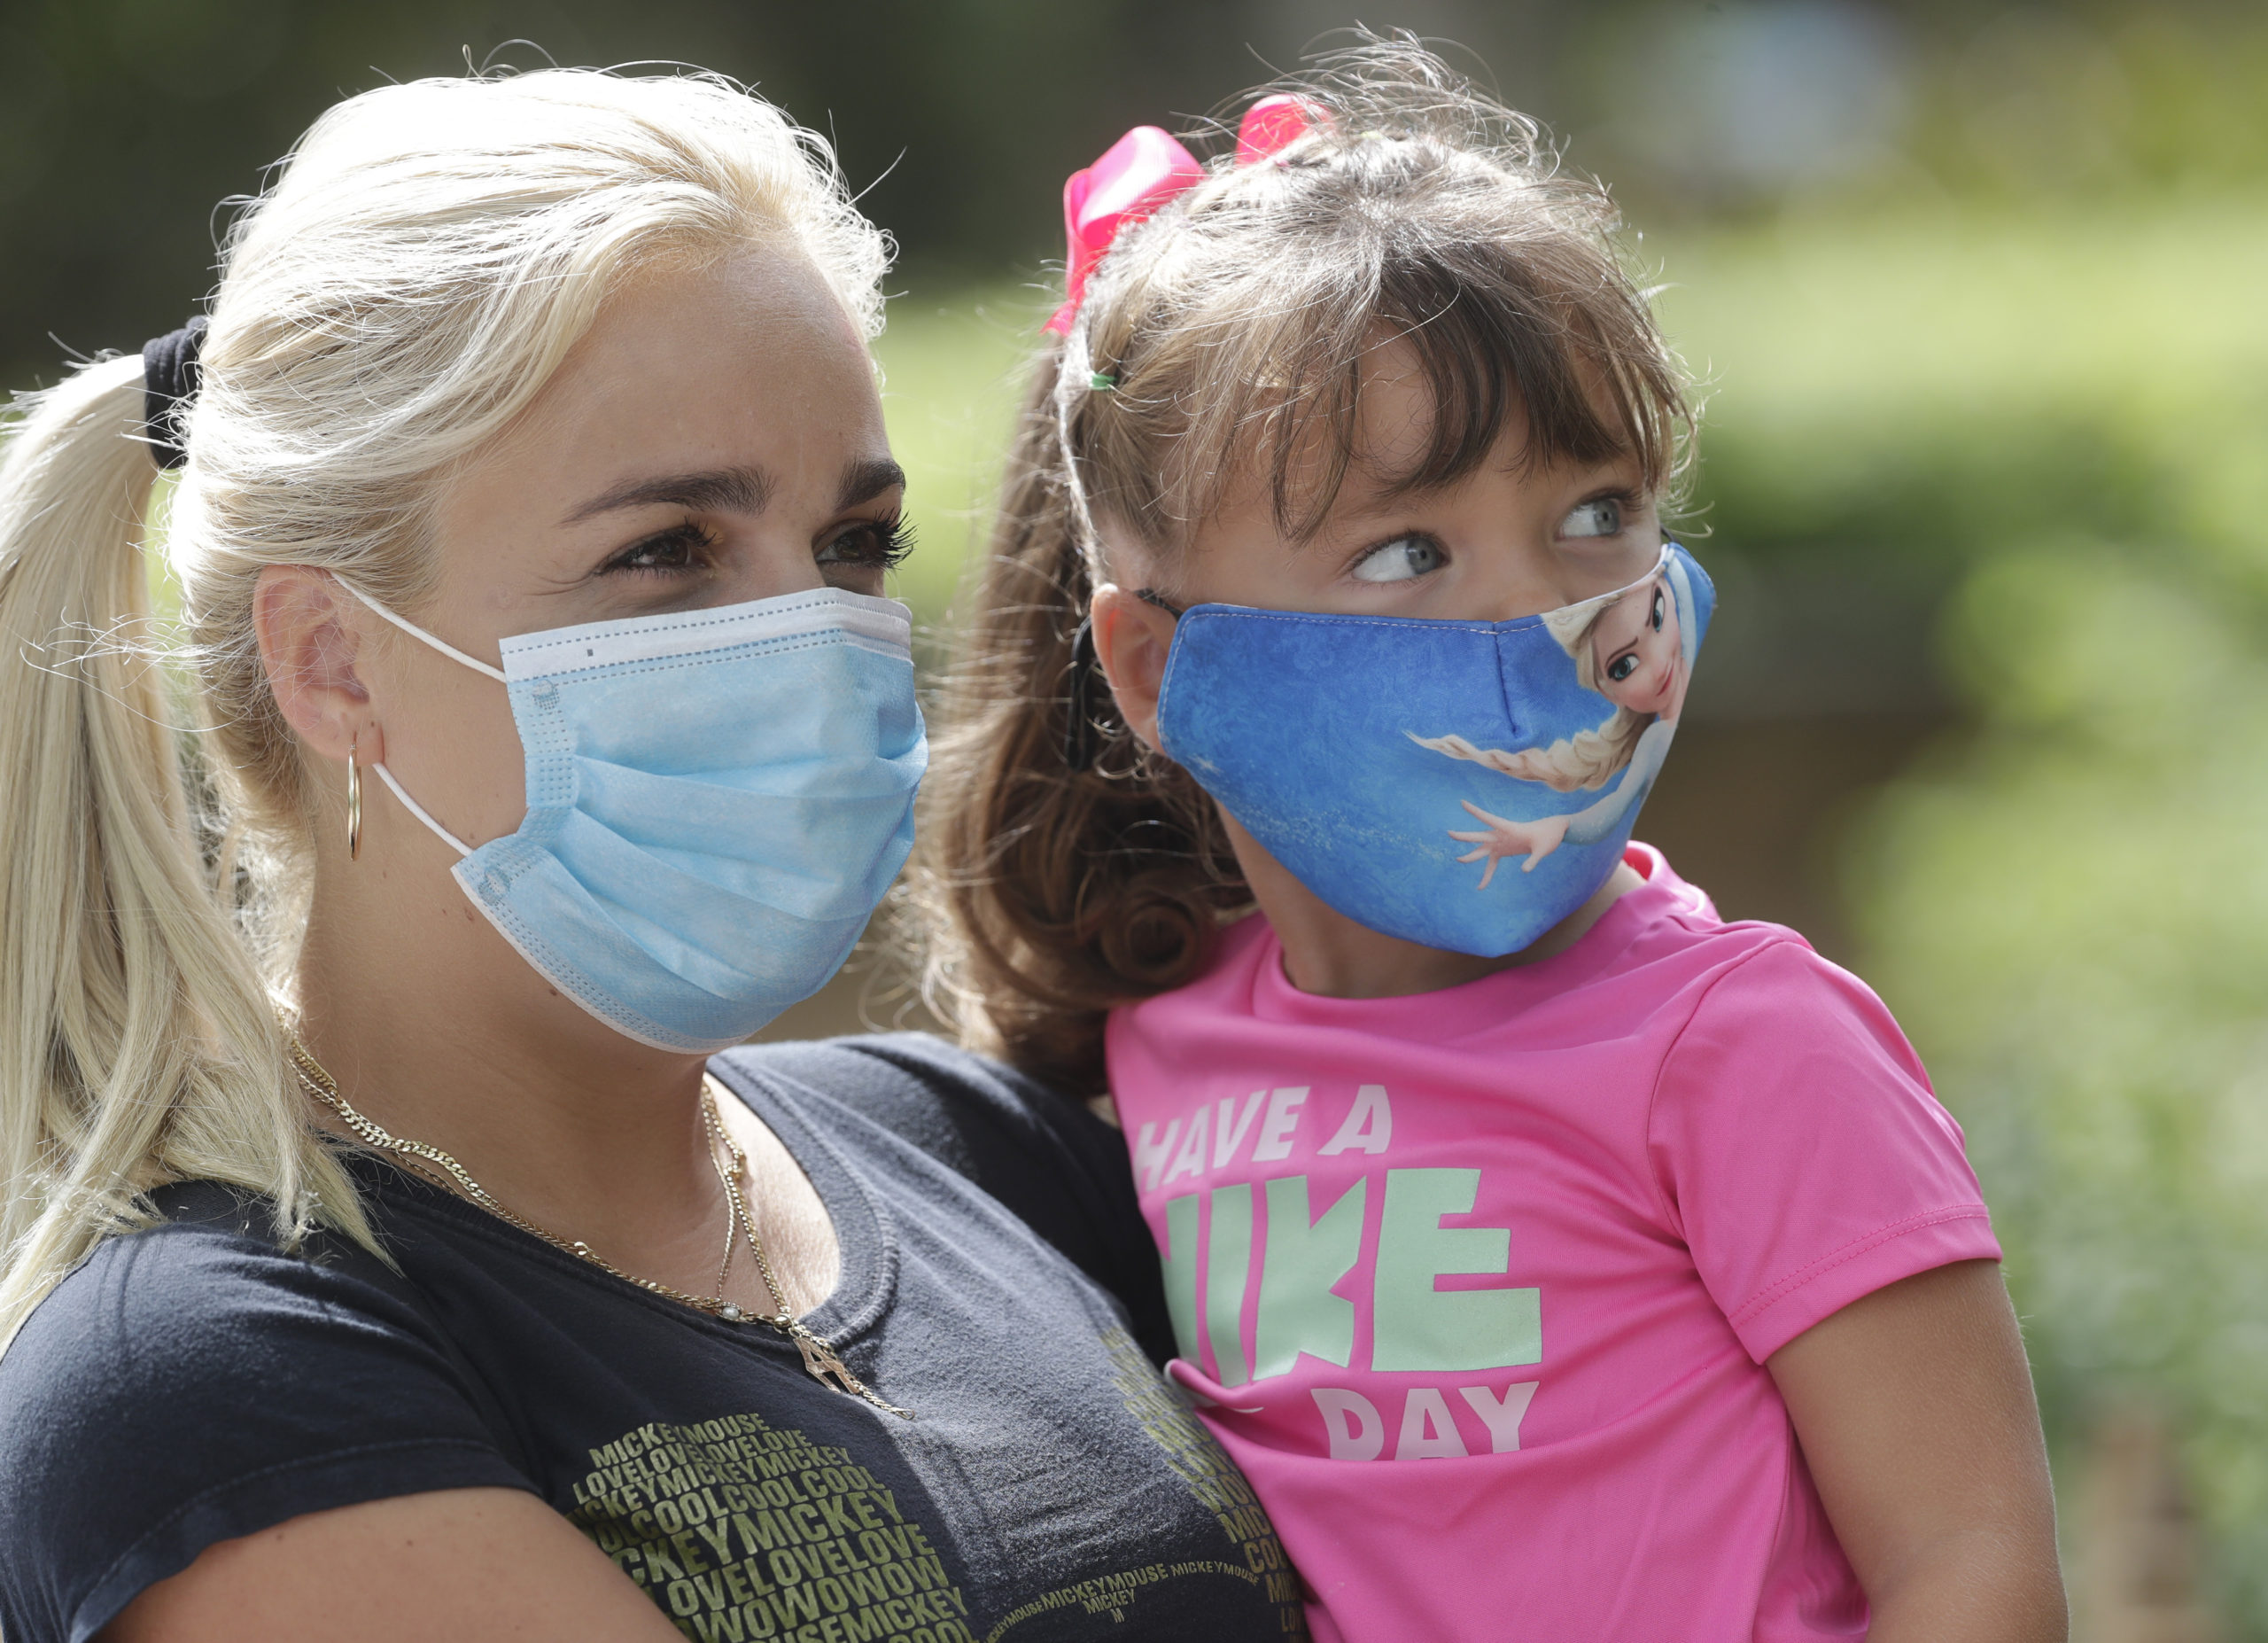with_mask: (498, 456, 901, 976), (1238, 477, 1666, 899)
